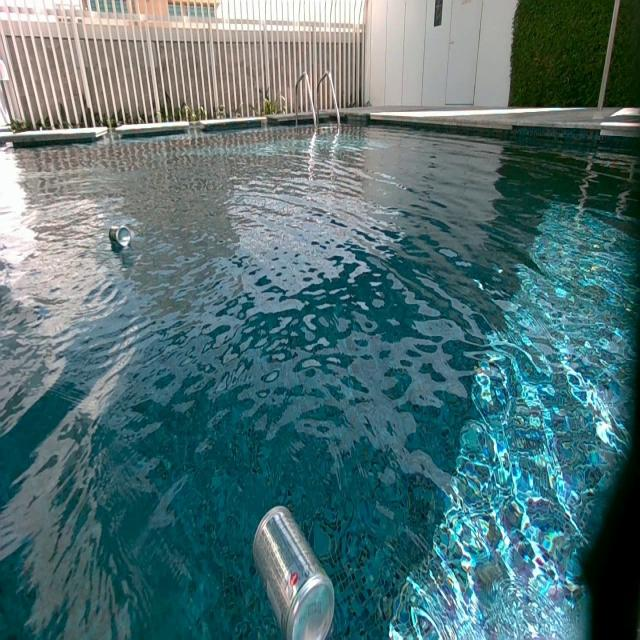Cans: (252, 504, 340, 639), (108, 223, 130, 249)
